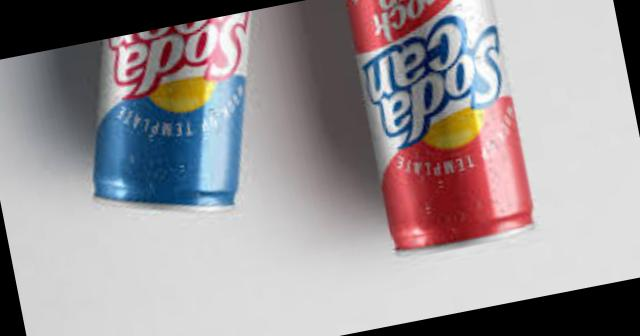metal: (350, 0, 535, 251), (98, 10, 253, 212)
